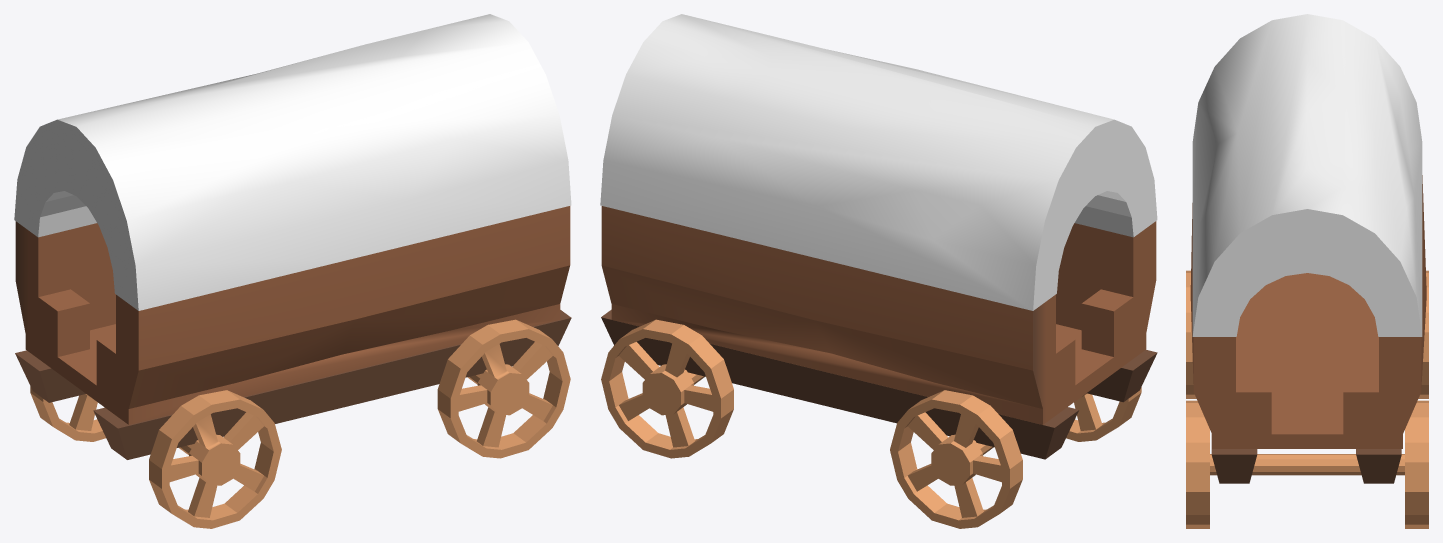
Rendered from Cart.fbx.
3 renders of one model, left to right at view 1: azimuth 30°, elevation 25°; view 2: azimuth 150°, elevation 25°; view 3: azimuth 270°, elevation 25°, orthographic. The views are drawn at different scales.
Parts seen in each view (by area): view 1: Top, Base, Wheel2, Wheel1, pCube1, pCube2; view 2: Top, Base, Wheel2, Wheel1, pCube2, pCube1; view 3: Top, Base, Wheel1, Wheel2, pCube1, pCube2.
Part boxes in pixels (x1,y1,x2,y2): Top: [14, 14, 571, 310]; Base: [15, 206, 570, 424]; Wheel2: [30, 386, 281, 528]; Wheel1: [437, 319, 570, 458]; pCube1: [93, 310, 571, 459]; pCube2: [15, 350, 85, 402]; Top: [600, 14, 1157, 310]; Base: [601, 206, 1156, 424]; Wheel2: [890, 387, 1141, 528]; Wheel1: [601, 319, 733, 458]; pCube2: [601, 309, 1078, 459]; pCube1: [1087, 350, 1157, 402]; Top: [1192, 14, 1422, 336]; Base: [1190, 175, 1426, 448]; Wheel1: [1186, 400, 1428, 528]; Wheel2: [1186, 270, 1428, 398]; pCube1: [1211, 434, 1257, 483]; pCube2: [1356, 449, 1401, 483].
Size of the model in its own units: 0.2985 by 0.2354 by 0.15.
